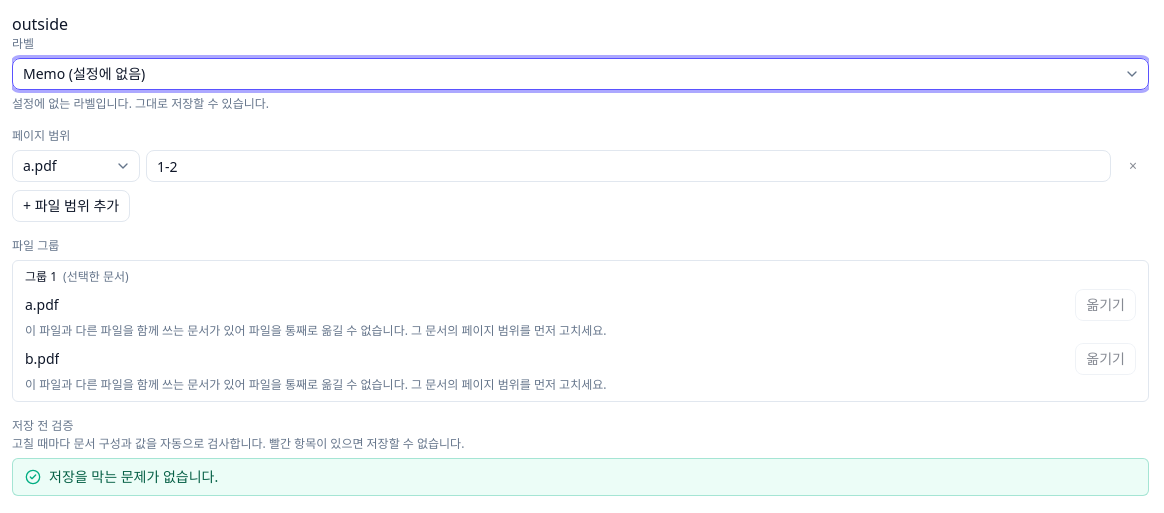
it: StructurePanel 라벨 select › 설정 밖 라벨에서 설정 라벨을 고르면 안내 줄이 사라진다
Press Enter
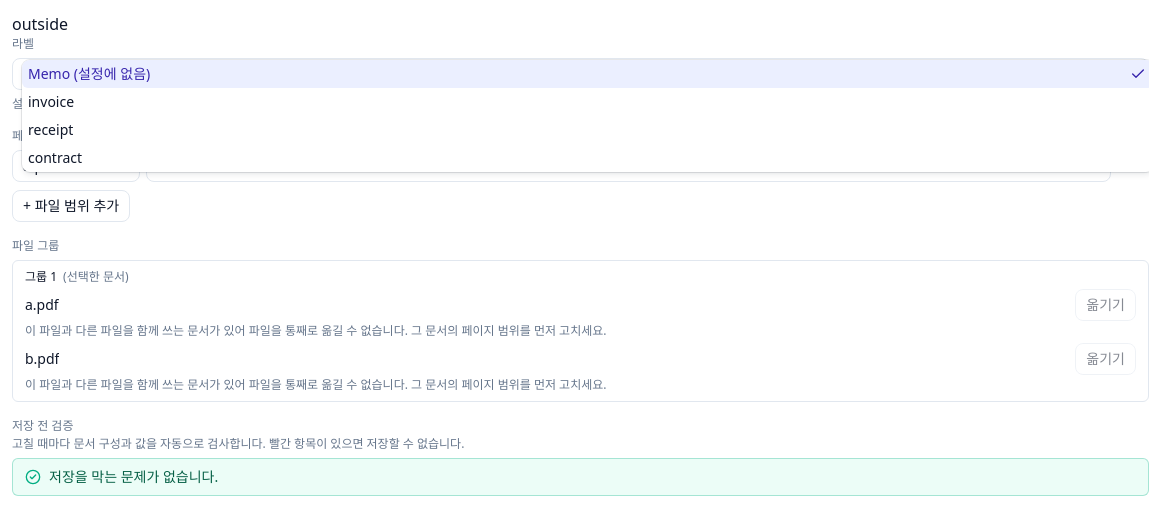
Click the option "contract": [55, 158] box [28,148,82,167]
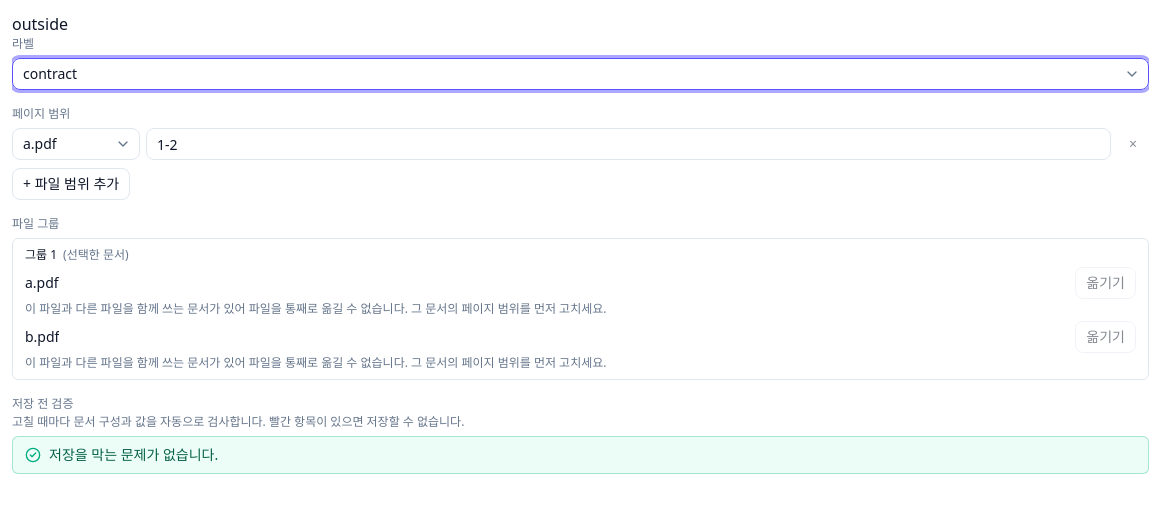
Expected: the text "설정에 없는 라벨입니다. 그대로 저장할 수 있습니다." is gone
